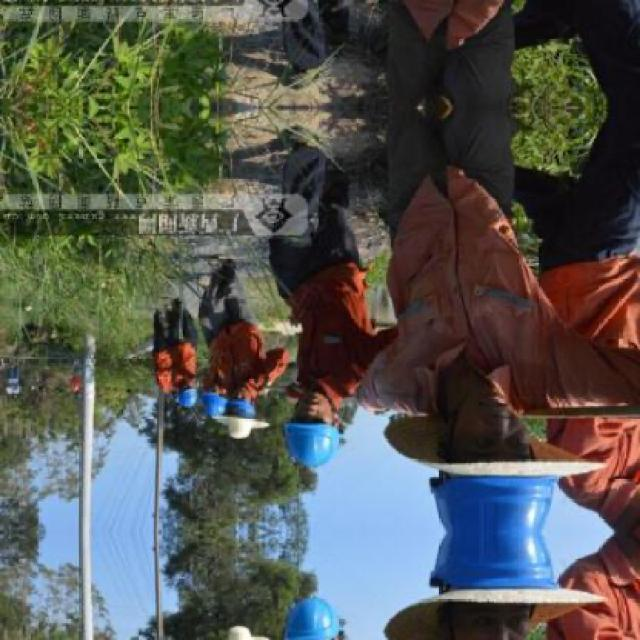con casco: (387, 422, 584, 526), (284, 407, 362, 459), (212, 393, 270, 447), (172, 371, 201, 420)
